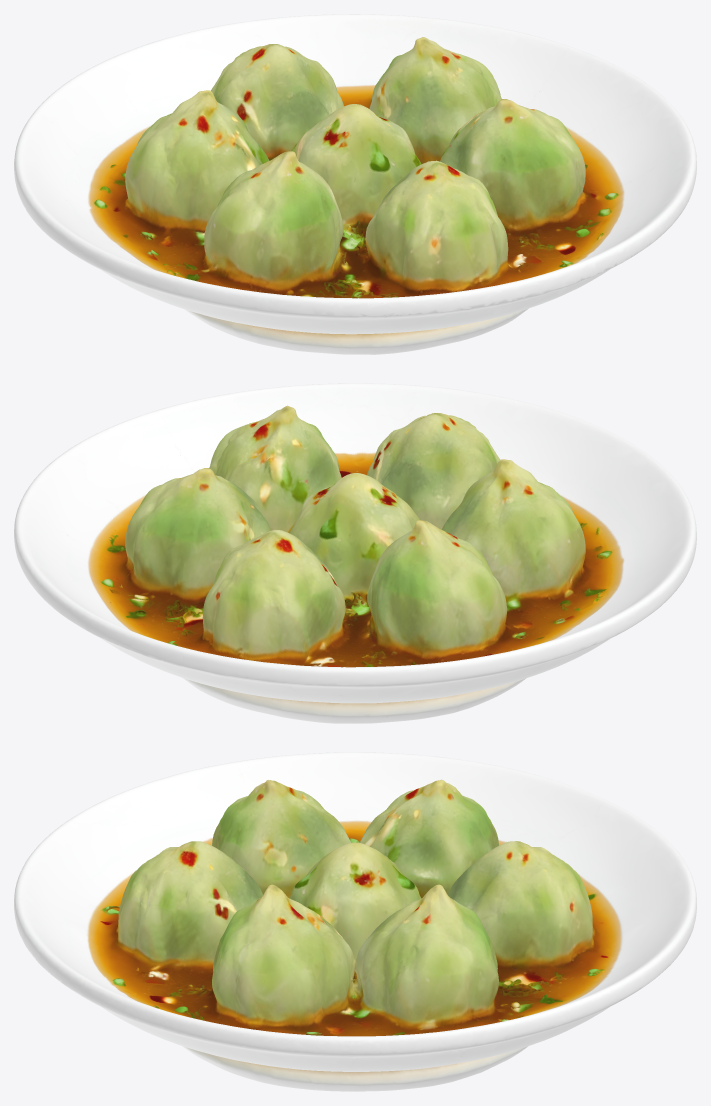
File: Boulettes Dim Sum.glb
The picture shows the model from 3 angles, top to bottom: view 1: azimuth 30°, elevation 25°; view 2: azimuth 150°, elevation 25°; view 3: azimuth 270°, elevation 25°; orthographic projection.
Visible parts, largest first — view 1: Mesh_0; view 2: Mesh_0; view 3: Mesh_0.
Boxes of the visible parts, <box> form: Mesh_0: <box>14,14,696,354</box>; Mesh_0: <box>14,383,696,723</box>; Mesh_0: <box>14,752,696,1091</box>.
Size of the model in its own units: 0.12 by 0.035 by 0.12.
Materials: 1 (1 with a texture image).
